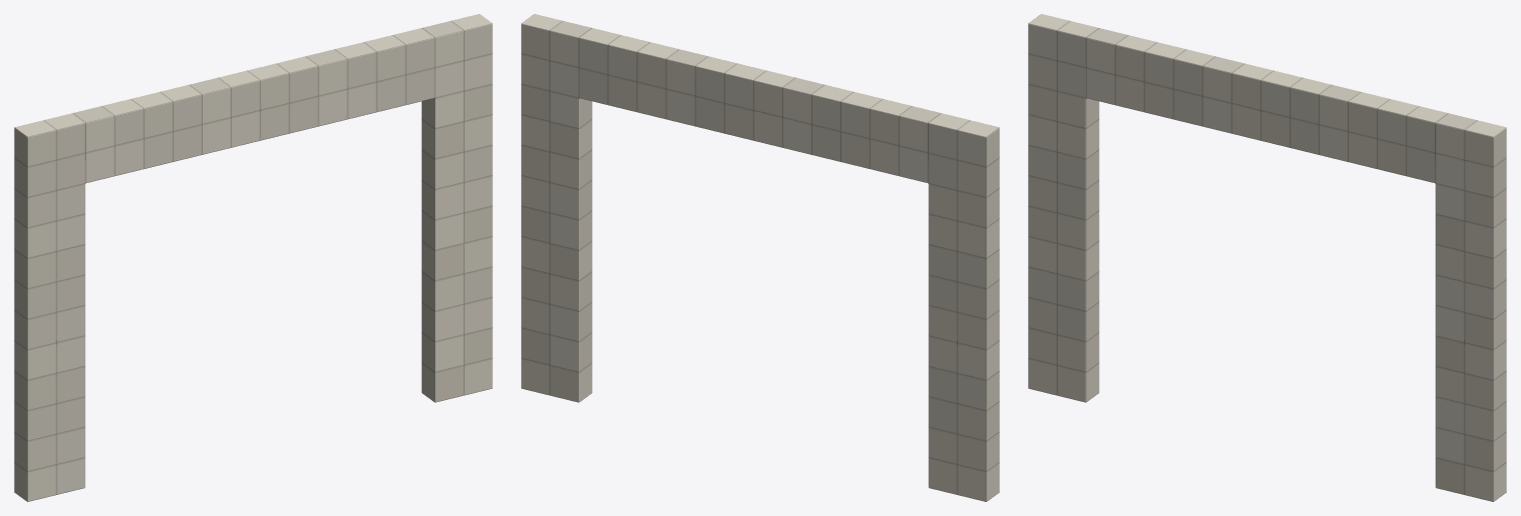
File: MOD_06_Wall_WideOpening.glb
3 renders of one model, left to right at view 1: azimuth 30°, elevation 25°; view 2: azimuth 150°, elevation 25°; view 3: azimuth 330°, elevation 25°, orthographic.
Visible parts, largest first — view 1: MOD_06_Wall_WideOpening_Export; view 2: MOD_06_Wall_WideOpening_Export; view 3: MOD_06_Wall_WideOpening_Export.
Part boxes in pixels (bbox=[...]): MOD_06_Wall_WideOpening_Export: bbox=[14, 14, 492, 501]; MOD_06_Wall_WideOpening_Export: bbox=[521, 14, 999, 501]; MOD_06_Wall_WideOpening_Export: bbox=[1028, 14, 1506, 501].
Bounding box in the file's own units: 4 × 3 × 0.2.
1 material, 1 textured.
